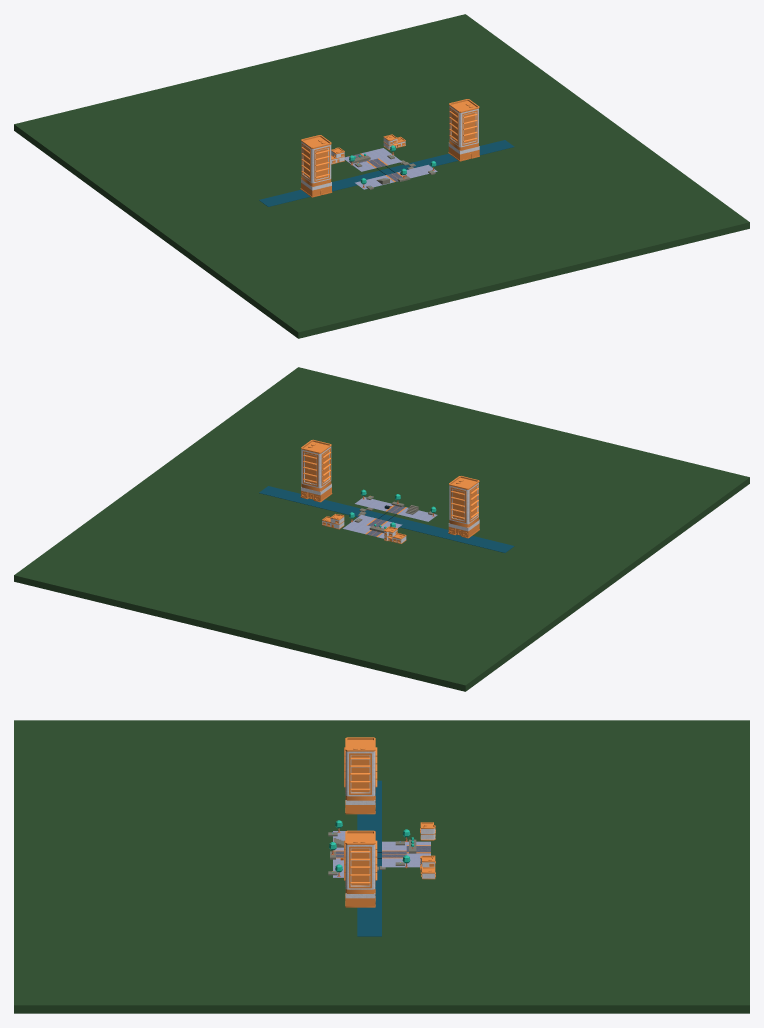
File: Street-2.obj
3 renders of one model, top to bottom at view 1: azimuth 30°, elevation 25°; view 2: azimuth 150°, elevation 25°; view 3: azimuth 270°, elevation 25°, orthographic. The views are drawn at different scales.
Visible parts, largest first — view 1: surface0, surface6, surface3, surface5, surface2; view 2: surface0, surface6, surface3, surface5, surface2; view 3: surface0, surface6, surface5, surface3, surface2.
Part boxes in pixels (bbox=[...]): surface0: bbox=[14, 14, 749, 338]; surface6: bbox=[300, 99, 479, 197]; surface3: bbox=[259, 140, 514, 206]; surface5: bbox=[301, 106, 479, 190]; surface2: bbox=[344, 148, 437, 189]; surface0: bbox=[14, 367, 749, 691]; surface6: bbox=[300, 439, 479, 543]; surface3: bbox=[259, 486, 514, 552]; surface5: bbox=[301, 446, 479, 543]; surface2: bbox=[343, 497, 437, 538]; surface0: bbox=[14, 720, 749, 1013]; surface6: bbox=[344, 737, 435, 907]; surface5: bbox=[345, 751, 435, 898]; surface3: bbox=[357, 780, 381, 936]; surface2: bbox=[333, 831, 430, 877].
Bounding box in the file's own units: 220 × 29.04 × 240.
